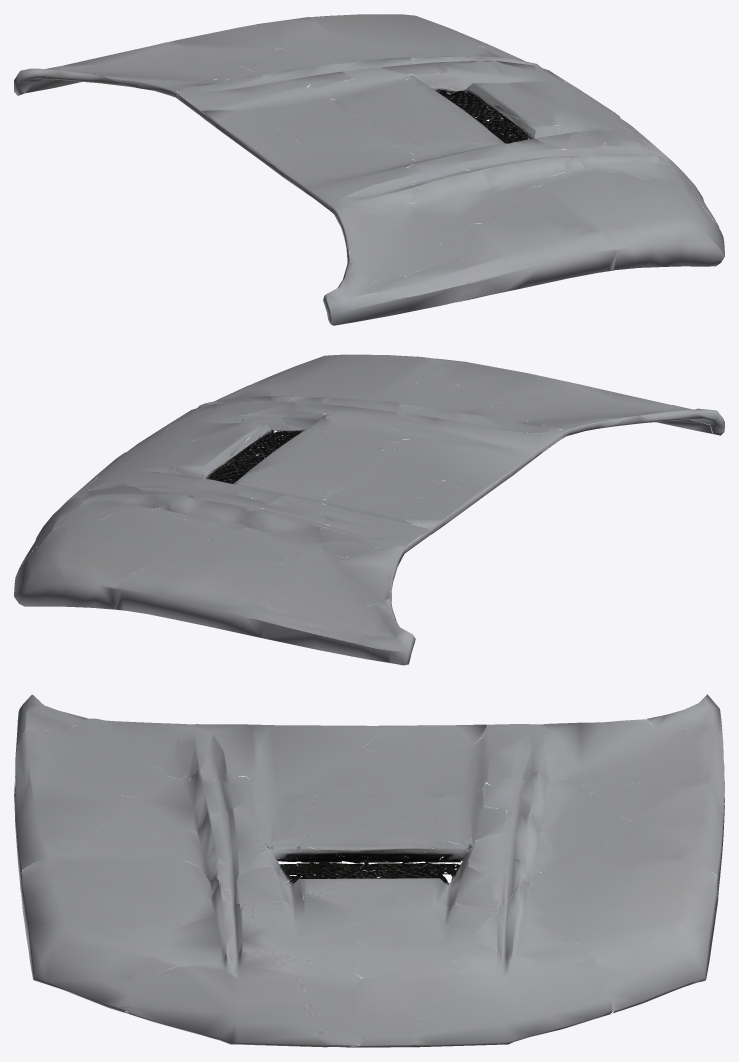
The model's file is common_hood.glb.
The picture shows the model from 3 angles, top to bottom: view 1: azimuth 30°, elevation 25°; view 2: azimuth 150°, elevation 25°; view 3: azimuth 270°, elevation 25°; orthographic projection. The views are drawn at different scales.
Visible parts, largest first — view 1: tripo_node_e2de64a0-fec7-4fdc-b2f9-13fedaee297d; view 2: tripo_node_e2de64a0-fec7-4fdc-b2f9-13fedaee297d; view 3: tripo_node_e2de64a0-fec7-4fdc-b2f9-13fedaee297d.
Part boxes in pixels (box(x1,y1,x2,y2)): tripo_node_e2de64a0-fec7-4fdc-b2f9-13fedaee297d: box(14, 14, 724, 325); tripo_node_e2de64a0-fec7-4fdc-b2f9-13fedaee297d: box(14, 354, 724, 665); tripo_node_e2de64a0-fec7-4fdc-b2f9-13fedaee297d: box(14, 694, 724, 1047).
Size of the model in its own units: 0.8551 by 0.1774 by 1.
Materials: 1 (1 with a texture image).
